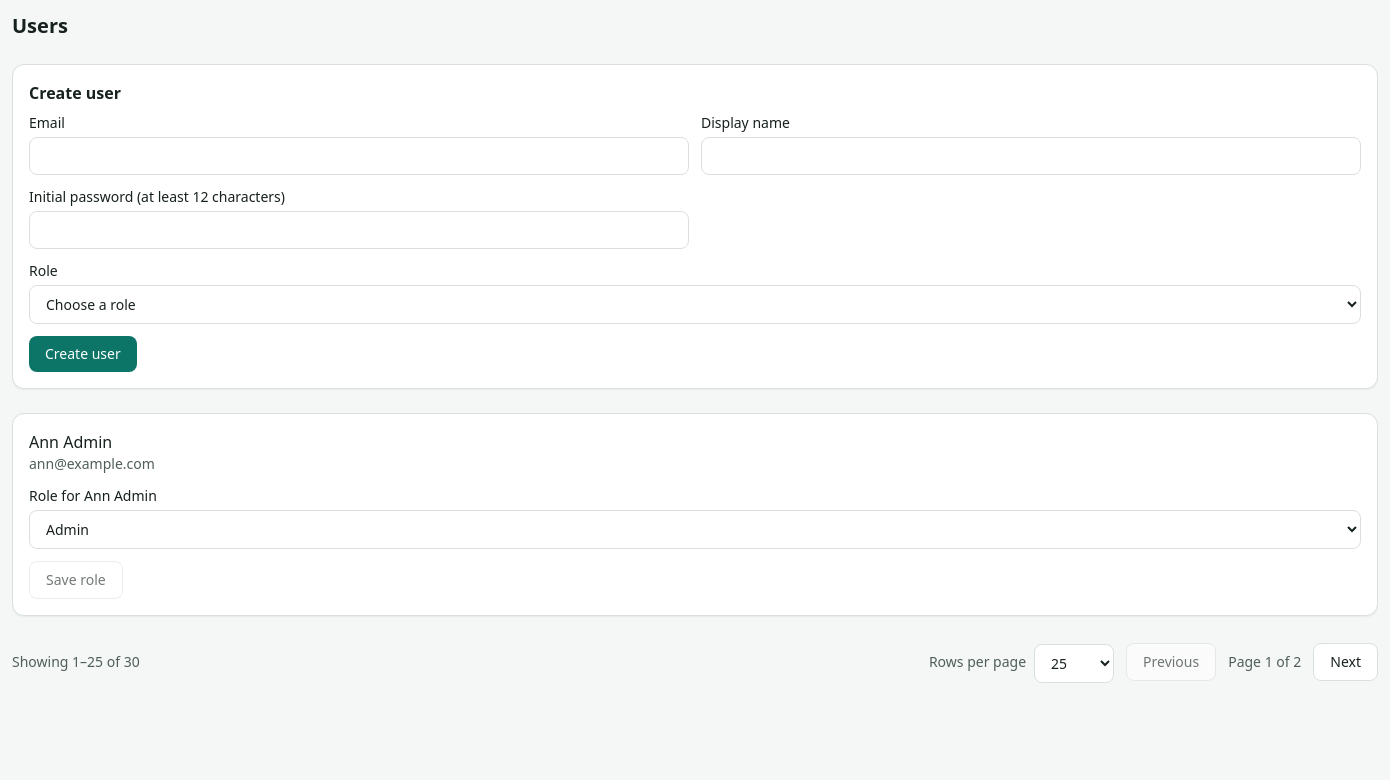
Test: UsersPage pagination › navigates to the next page
This screenshot has width=1390, height=780.
What coordinates should you click on to do the following:
click the button "Next"
I would click on:
 (1346, 662)
Its box is 1313,642 -> 1378,680.
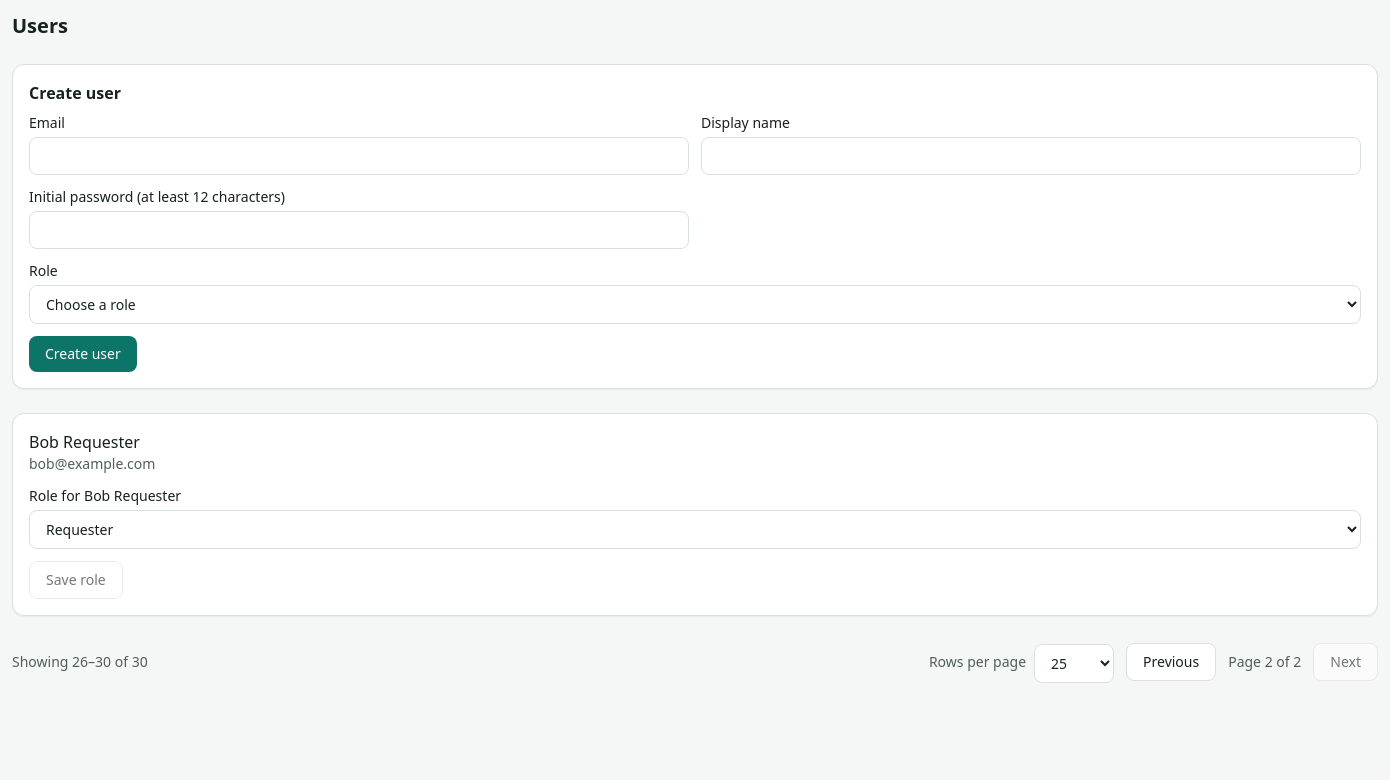
Now the text "Bob Requester" is shown, box 29,430 -> 155,454
